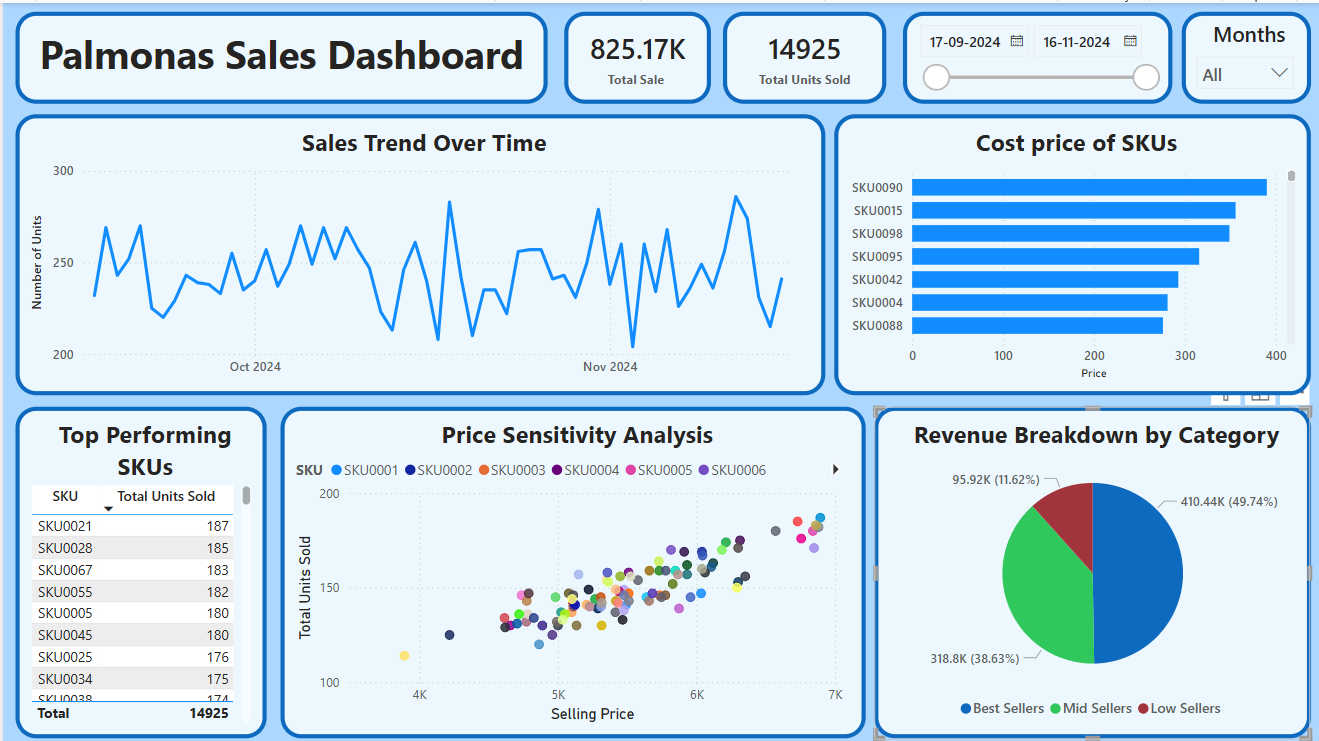

The page's visual inventory and layout, read from the dashboard file:
{"tool":"powerbi","page":{"name":"Page 1","canvas":[1280,720],"ordinal":0},"visuals":[{"type":"lineChart","title":"Sales Trend Over Time","fields":{"Y":["Sum(sales_data_recent_modified.Units Sold)"],"Category":["sales_data_recent_modified.Date Only.Variation.Date Hierarchy.Year","sales_data_recent_modified.Date Only.Variation.Date Hierarchy.Month","sales_data_recent_modified.Date Only.Variation.Date Hierarchy.Day"]},"box":[12.5,107.5,781.2,271.2],"z":0},{"type":"tableEx","title":"Top Performing SKUs","fields":{"Values":["sales_data_recent_modified.SKU","Sum(sales_data_recent_modified.Units Sold)"]},"box":[12.5,390,242.5,320],"z":1000},{"type":"pieChart","title":"Revenue Breakdown by Category","fields":{"Category":["sales_data_recent_modified.Performance category"],"Y":["Sum(sales_data_recent_modified.Total Sales Value)"]},"box":[841.2,390,421.2,320],"z":2000},{"type":"scatterChart","title":"Price Sensitivity Analysis","fields":{"X":["Sum(sales_data_recent_modified.Selling Price)"],"Y":["Sum(sales_data_recent_modified.Units Sold)"],"Series":["sales_data_recent_modified.SKU"]},"box":[267.5,390,565,320],"z":3000},{"type":"clusteredBarChart","title":"Cost price of SKUs","fields":{"Category":["inventory_data.SKU"],"Y":["Sum(inventory_data.Cost Price)"]},"box":[802.5,107.5,460,271.2],"z":4000},{"type":"card","fields":{"Values":["Sum(sales_data_recent_modified.Total Sales Value)"]},"box":[541.2,8.8,141.2,88.8],"z":5000},{"type":"card","fields":{"Values":["Sum(sales_data_recent_modified.Units Sold)"]},"box":[695,8.8,157.5,88.8],"z":6000},{"type":"textbox","box":[12.5,8.8,513.8,88.8],"z":7000},{"type":"slicer","title":"Months","fields":{"Values":["sales_data_recent_modified.Date.Variation.Date Hierarchy.Month"]},"box":[1137.5,8.8,125,88.8],"z":8000},{"type":"slicer","fields":{"Values":["sales_data_recent_modified.Date"]},"box":[868.8,8.8,260,88.8],"z":9000}]}

Visuals, with their boxes in screenshot pixels (x1, y1, x2, y2), scaled from the page's 1280x720 canvas onto the 1319x741 screenshot:
"Sales Trend Over Time" lineChart: pyautogui.locateOnScreen(13, 111, 818, 390)
"Top Performing SKUs" tableEx: pyautogui.locateOnScreen(13, 401, 263, 731)
"Revenue Breakdown by Category" pieChart: pyautogui.locateOnScreen(867, 401, 1301, 731)
"Price Sensitivity Analysis" scatterChart: pyautogui.locateOnScreen(276, 401, 858, 731)
"Cost price of SKUs" clusteredBarChart: pyautogui.locateOnScreen(827, 111, 1301, 390)
card - Sum(sales_data_recent_modified.Total Sales Value): pyautogui.locateOnScreen(558, 9, 703, 100)
card - Sum(sales_data_recent_modified.Units Sold): pyautogui.locateOnScreen(716, 9, 878, 100)
textbox: pyautogui.locateOnScreen(13, 9, 542, 100)
"Months" slicer: pyautogui.locateOnScreen(1172, 9, 1301, 100)
slicer - sales_data_recent_modified.Date: pyautogui.locateOnScreen(895, 9, 1163, 100)
